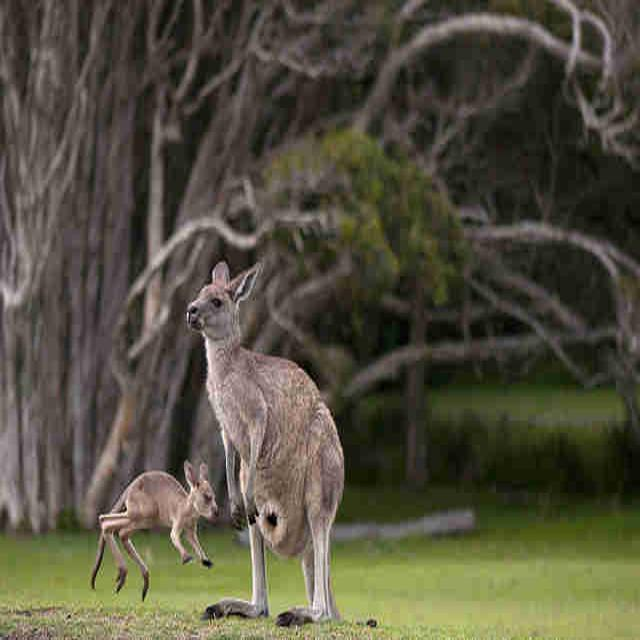kangaroo: (185, 257, 380, 625), (85, 460, 218, 600)
